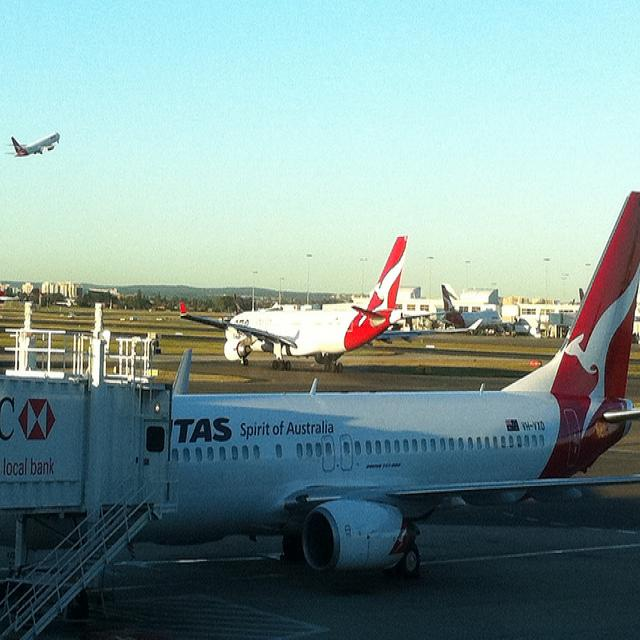airplane: (131, 189, 640, 582), (177, 232, 484, 375), (438, 284, 504, 336), (5, 130, 62, 158)
